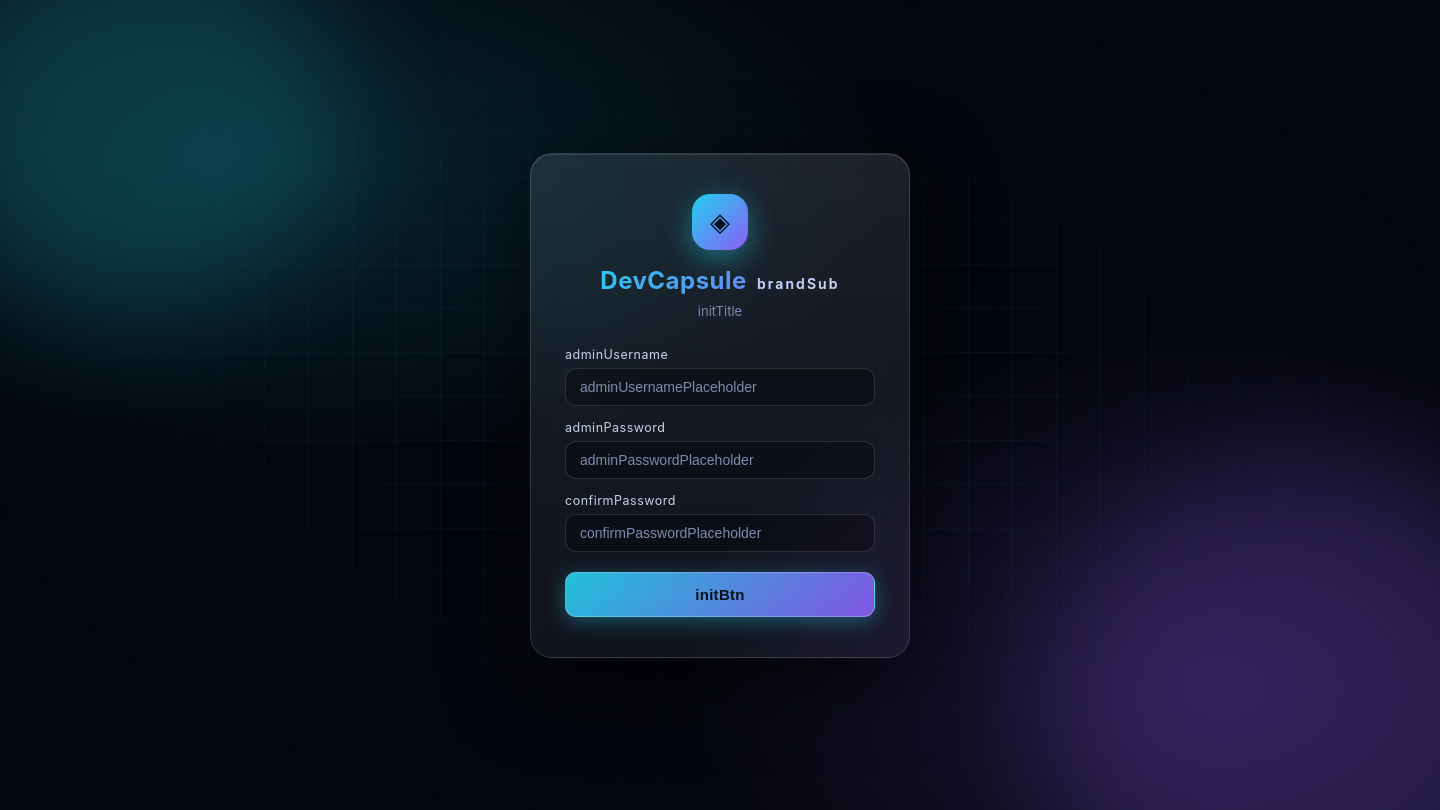
Test: Initialize › shows the error when initialization fails
Type "admin" into the field with placeholder "adminUsernamePlaceholder" at (720, 386), box [565, 368, 875, 406]
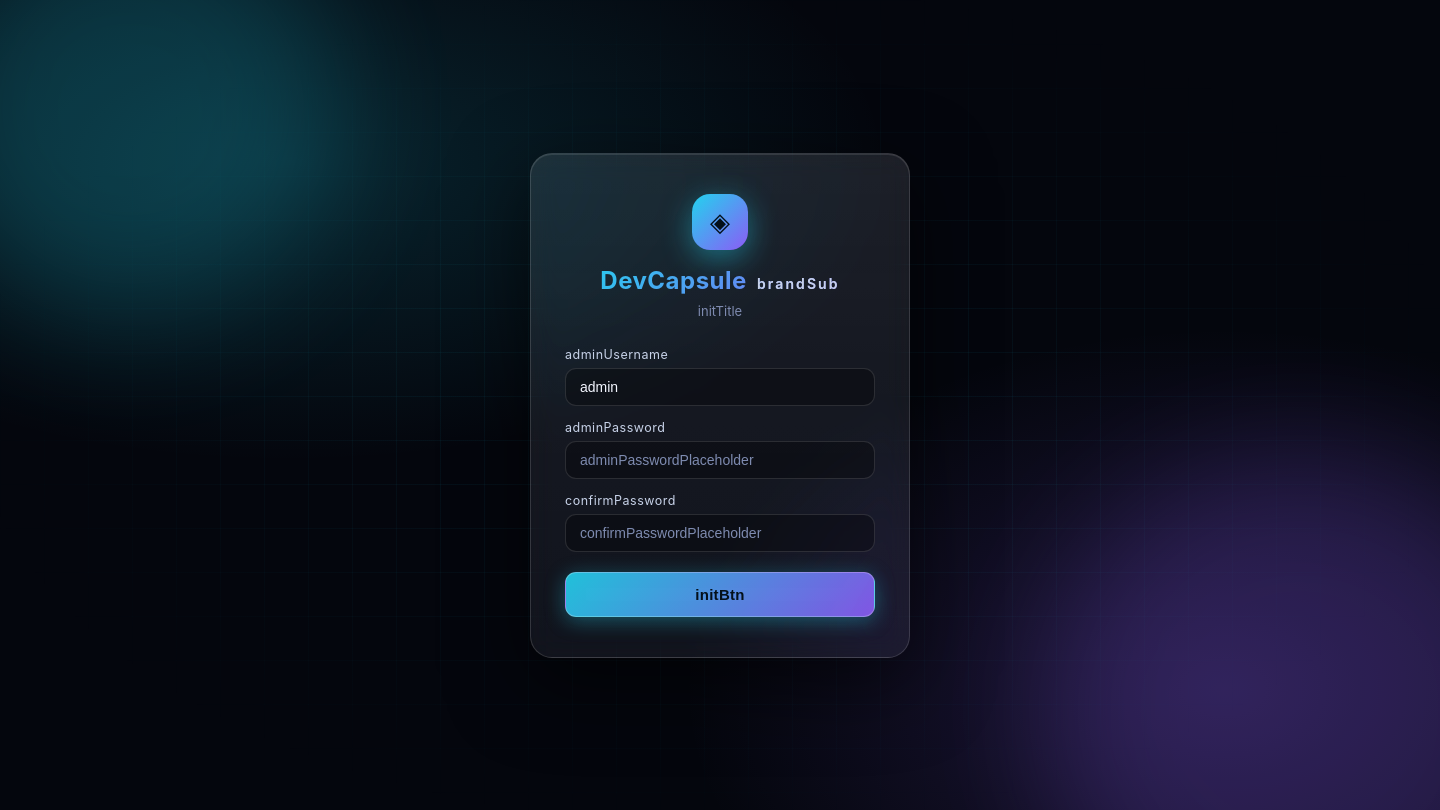
Type "pass1234" into the password field with placeholder "adminPasswordPlaceholder" at (720, 460), box [565, 440, 875, 478]
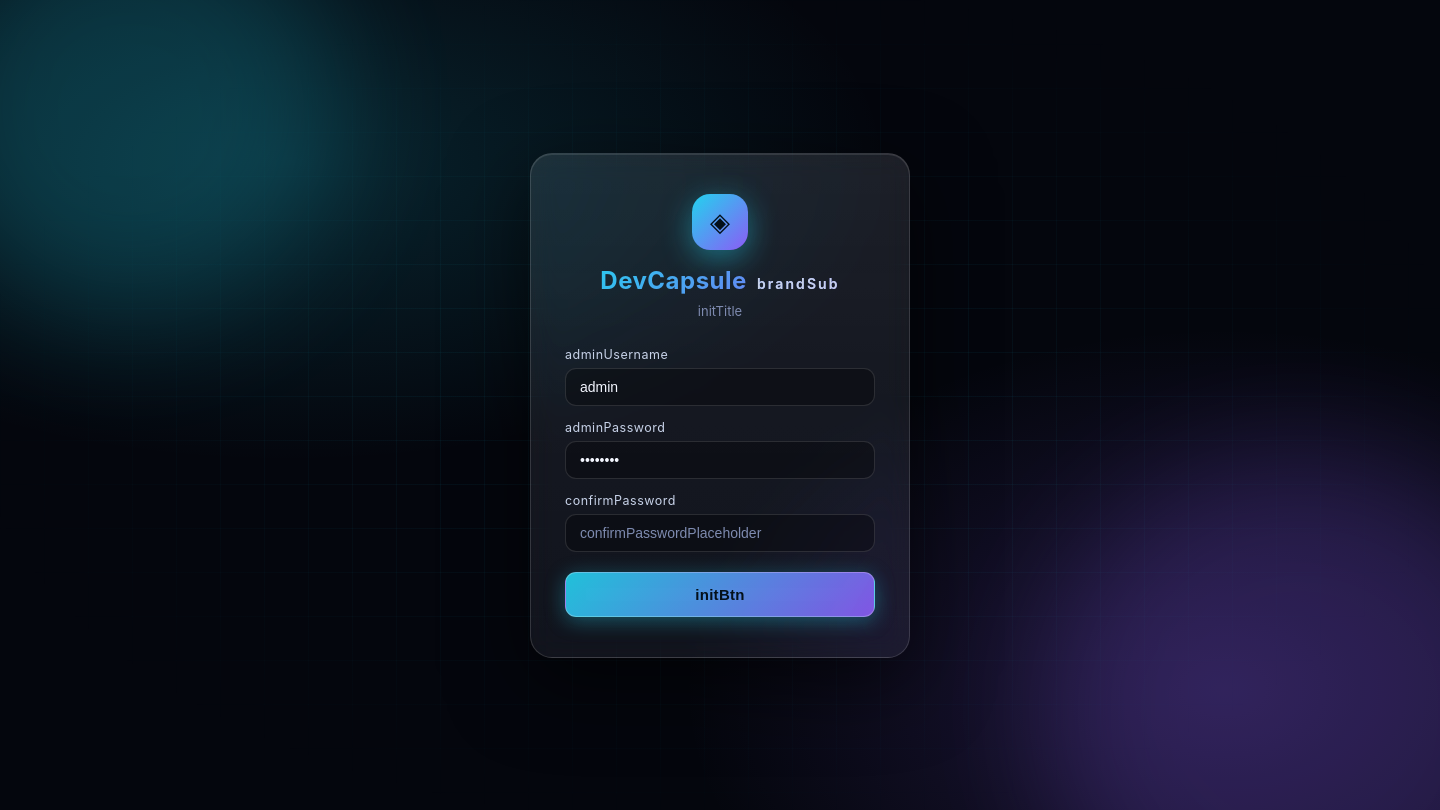
Type "pass1234" into the password field with placeholder "confirmPasswordPlaceholder" at (720, 532), box [565, 514, 875, 552]
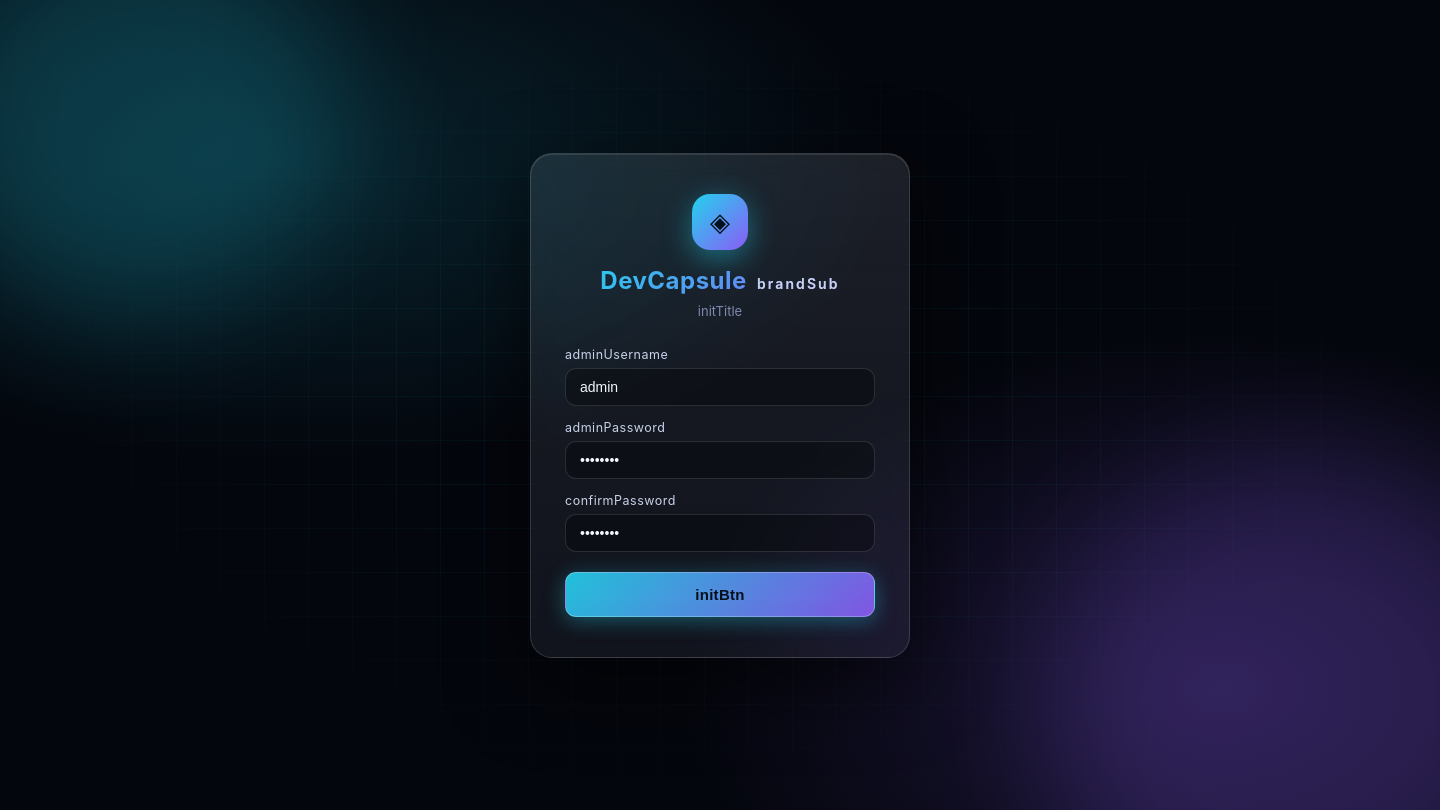
Submit the form, box [565, 346, 875, 616]
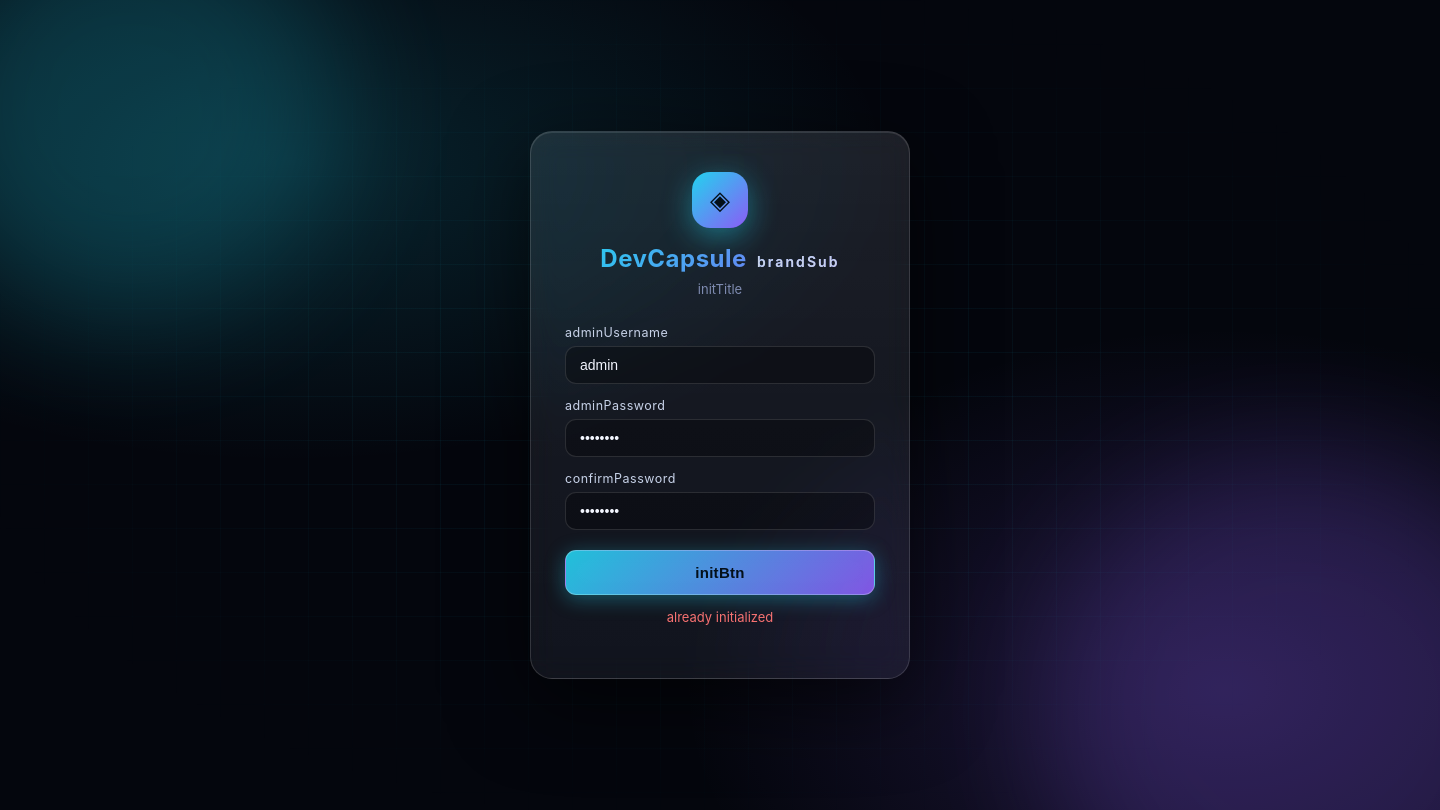
Expected: the text with class "err" reads "already initialized", [667, 609, 773, 625]
